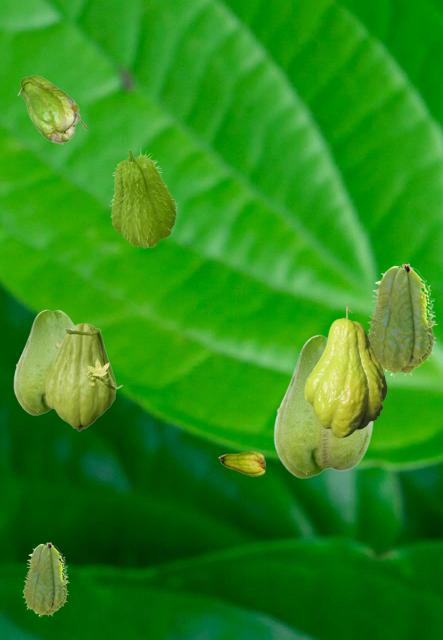sayote: (273, 334, 372, 477), (304, 305, 386, 437), (45, 323, 122, 430), (367, 263, 436, 376), (109, 148, 177, 247), (13, 309, 74, 414), (17, 75, 85, 143), (22, 542, 68, 616), (218, 451, 264, 475)
